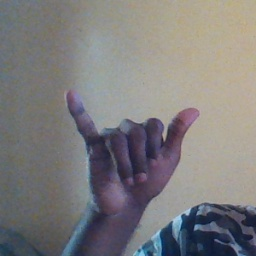J: (62, 85, 202, 216)
